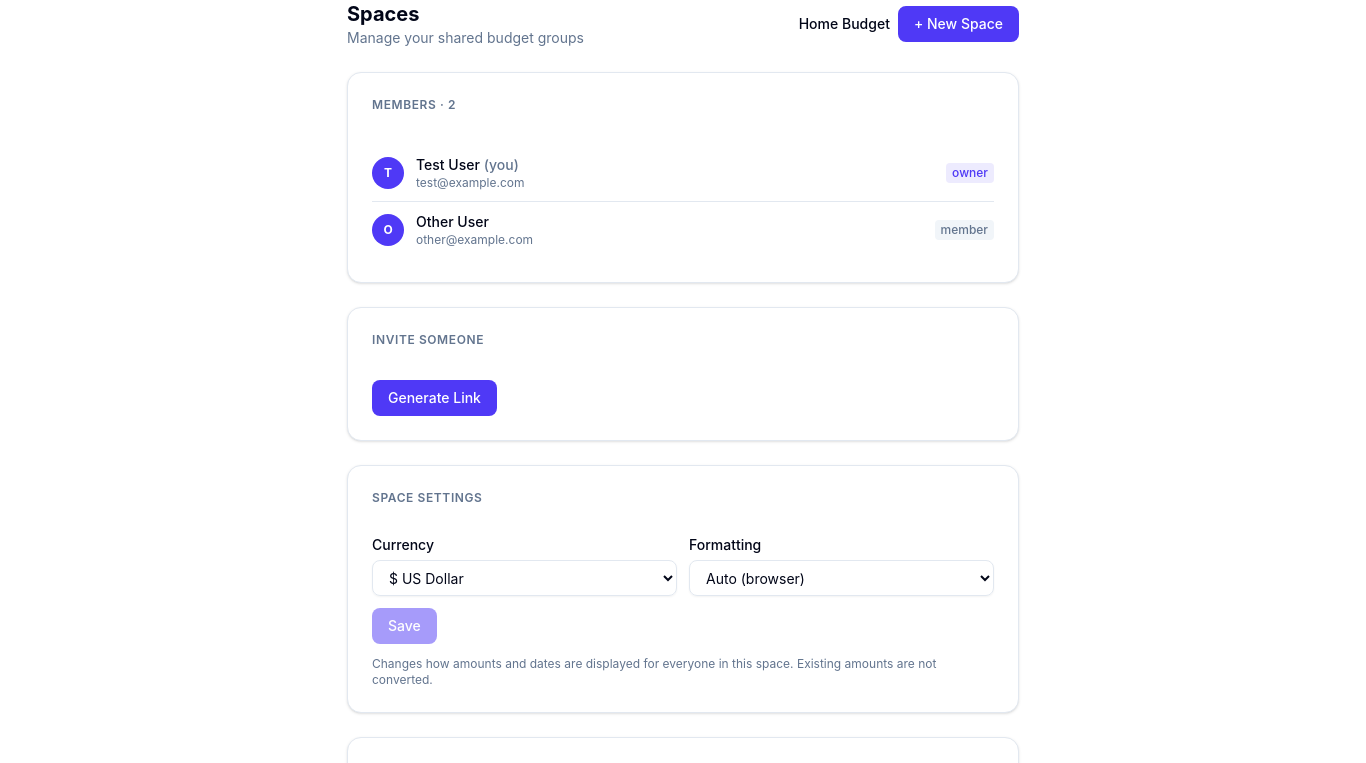
Test case: SpacesPage › opens the create space modal and closes it after creation
Step 1. Click the button "+ New Space" → point(958, 24), box [898,6,1019,42]
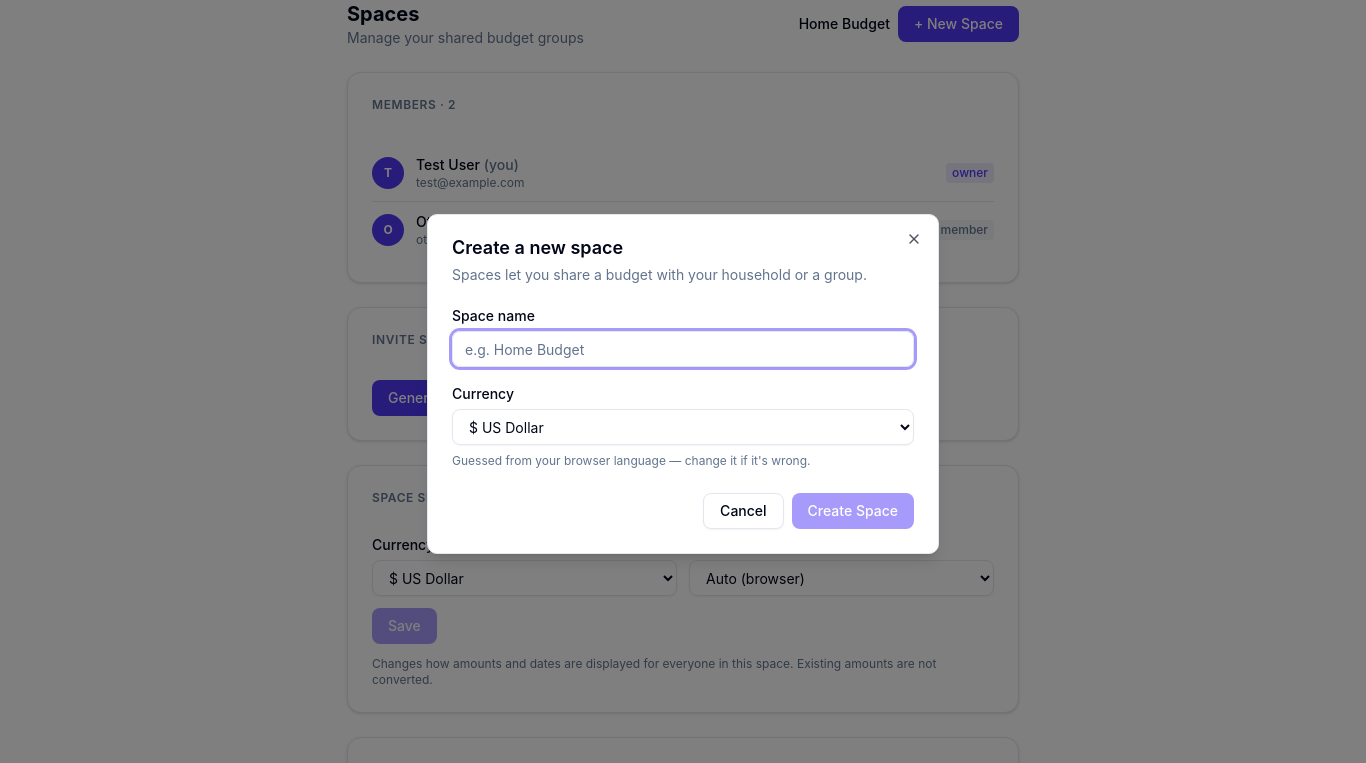
Expected: the dialog is shown, [427,214,939,554]
Step 2. Type "Trip Fund" into the field labelled "Space name" → point(683, 349), box [452,331,914,367]
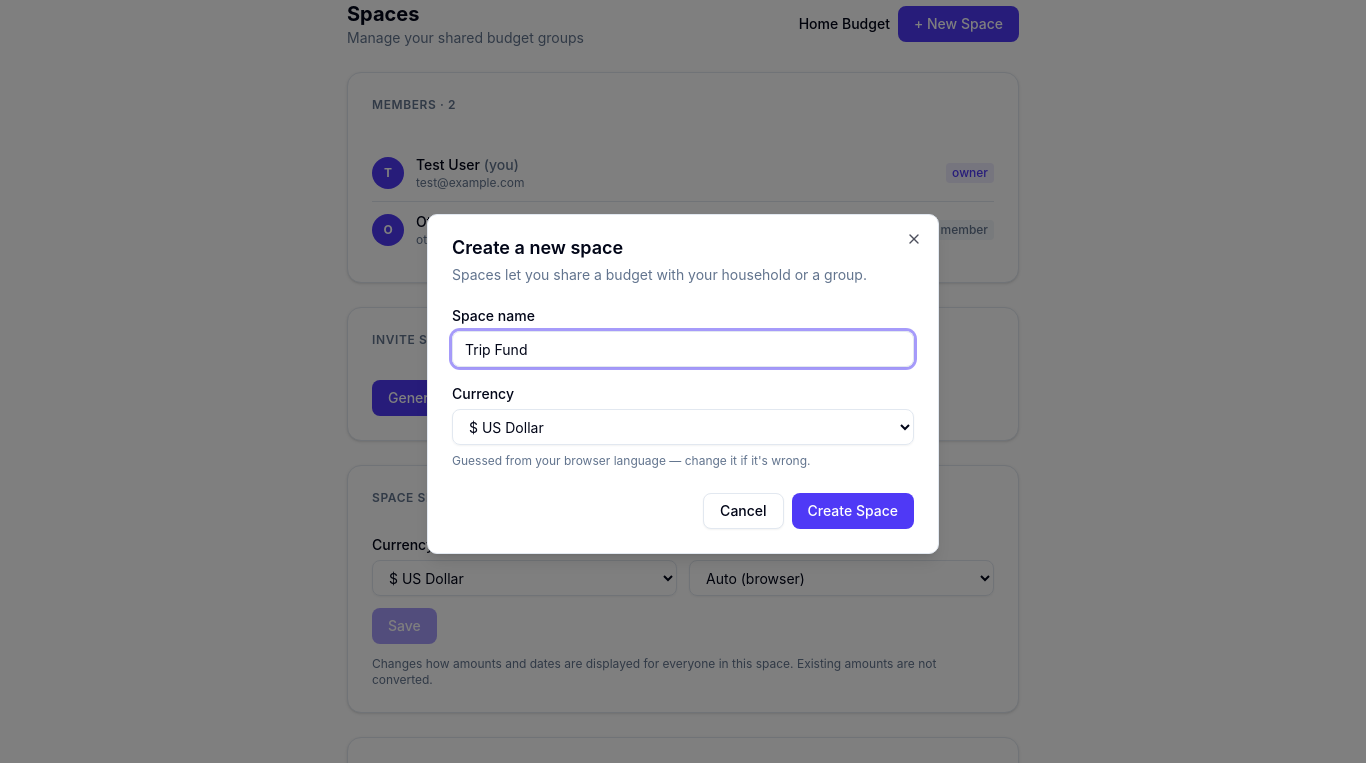
Step 3. Click the button "Create Space" → point(853, 511), box [792,493,914,529]
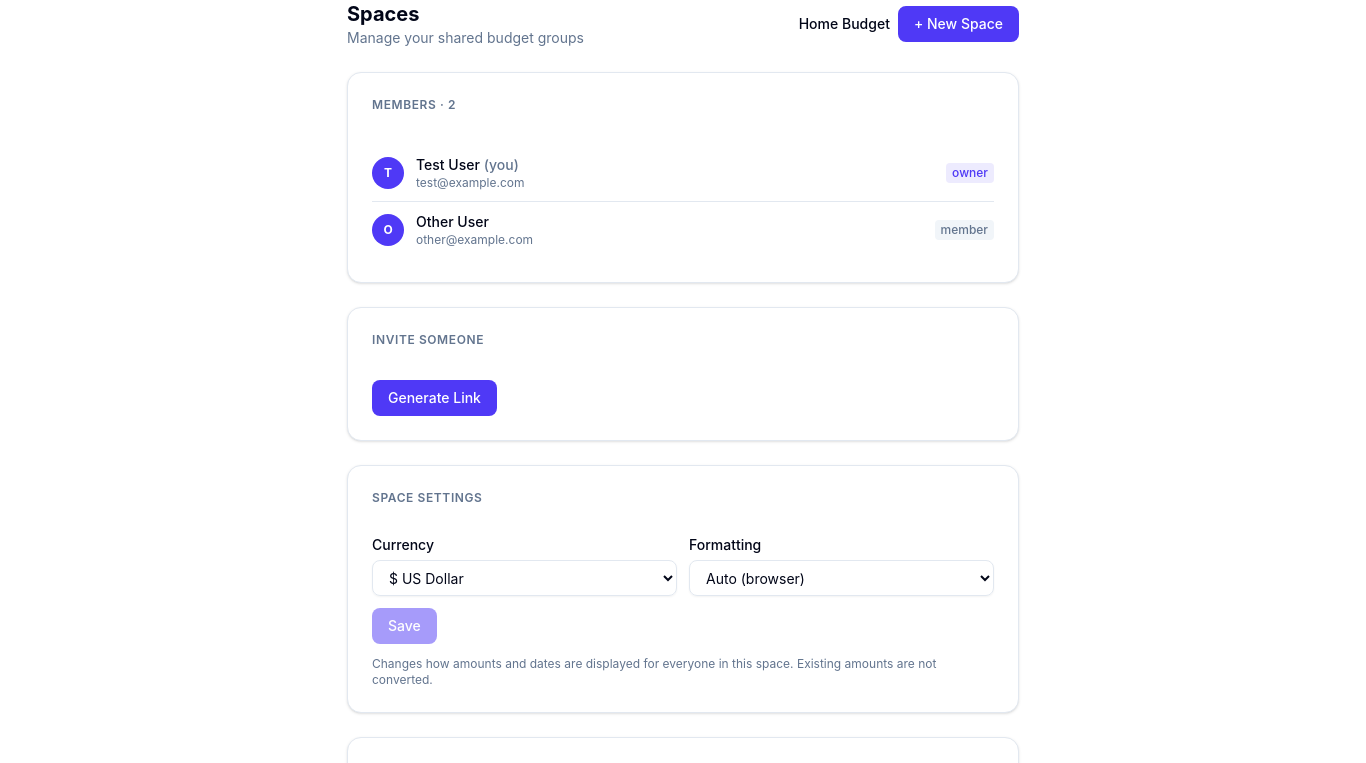
Expected: the dialog is gone
